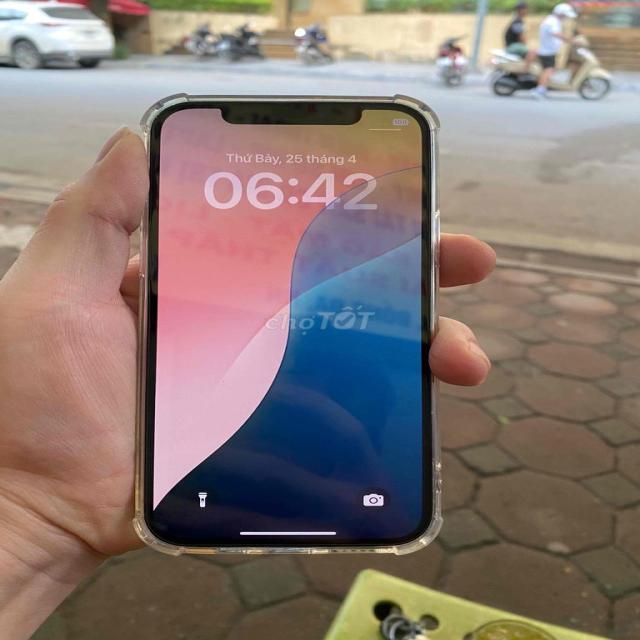gen_12_13: (120, 83, 453, 569)
